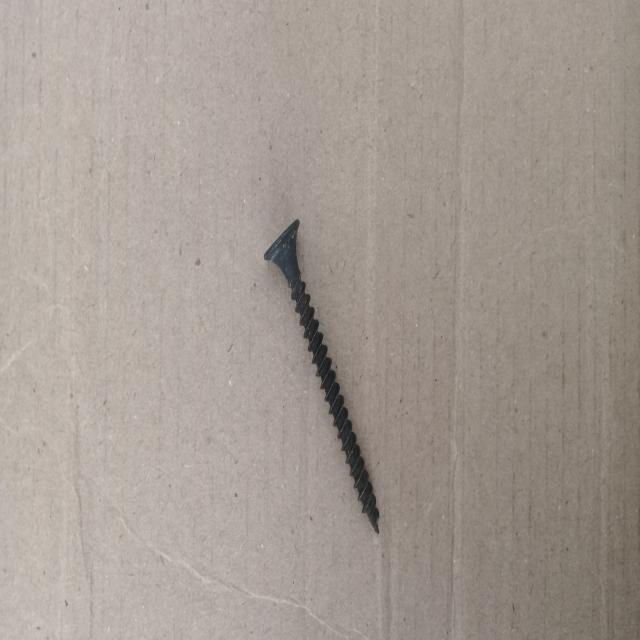screw: (262, 216, 380, 536)
